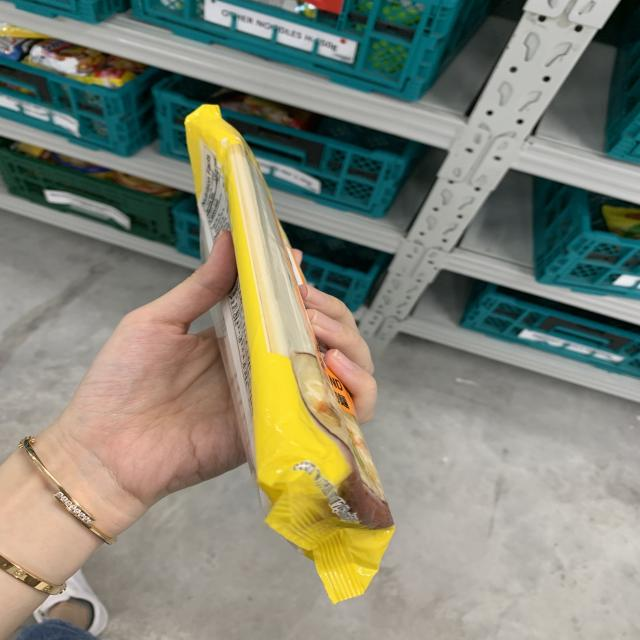object_name: (174, 135, 392, 573)
